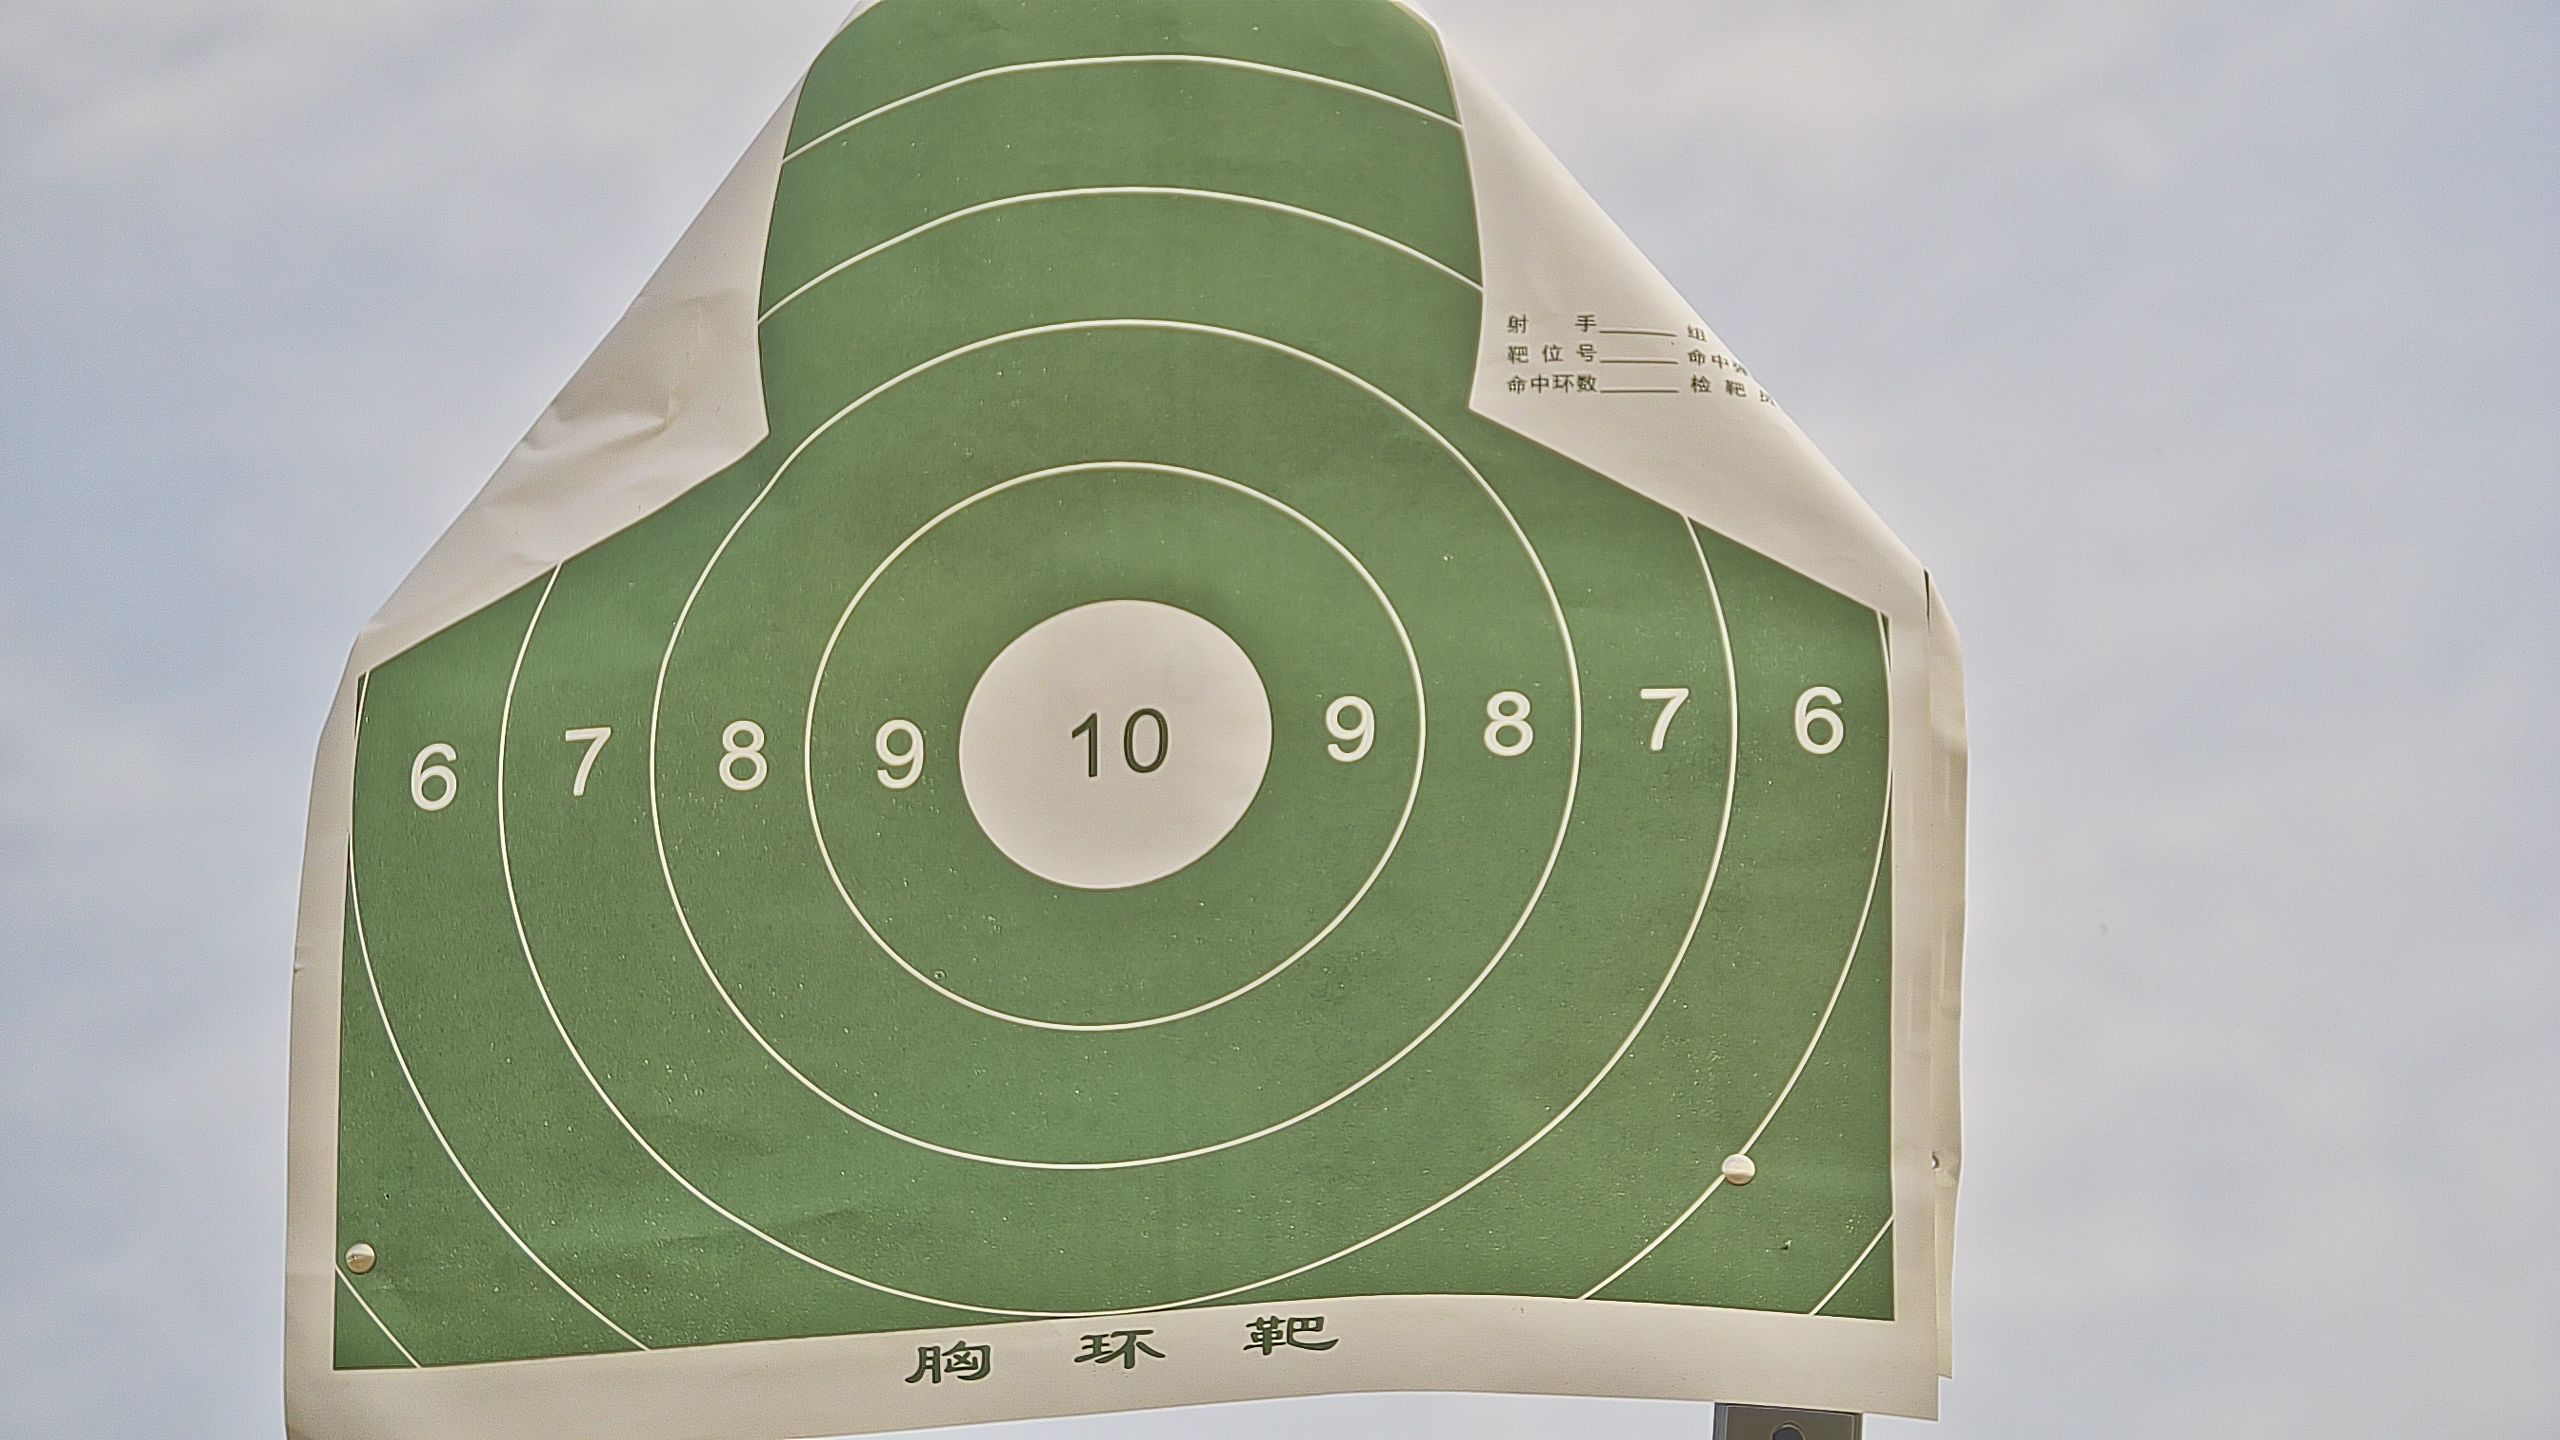kernel: (1109, 744, 1115, 749)
target: (334, 2, 1901, 1380)
ten: (955, 600, 1278, 895)
